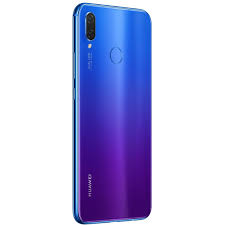huawei: (73, 1, 151, 225)
